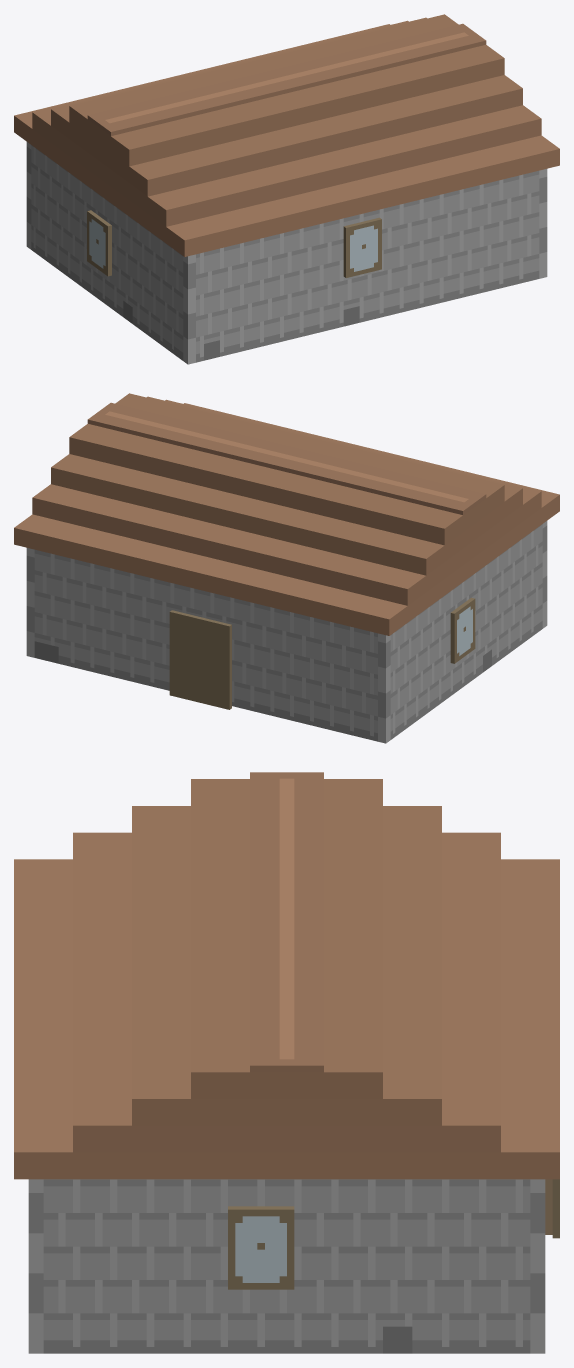
The model's file is taller_lapidario_03.glb.
3 renders of one model, top to bottom at view 1: azimuth 30°, elevation 25°; view 2: azimuth 150°, elevation 25°; view 3: azimuth 270°, elevation 25°, orthographic. The views are drawn at different scales.
Visible parts, largest first — view 1: taller_lapidario_03; view 2: taller_lapidario_03; view 3: taller_lapidario_03.
Part boxes in pixels (x1,y1,x2,y2): taller_lapidario_03: (14,14,559,364); taller_lapidario_03: (14,393,559,743); taller_lapidario_03: (14,772,559,1353).
Bounding box in the file's own units: 9.4 × 4.4 × 7.4.
